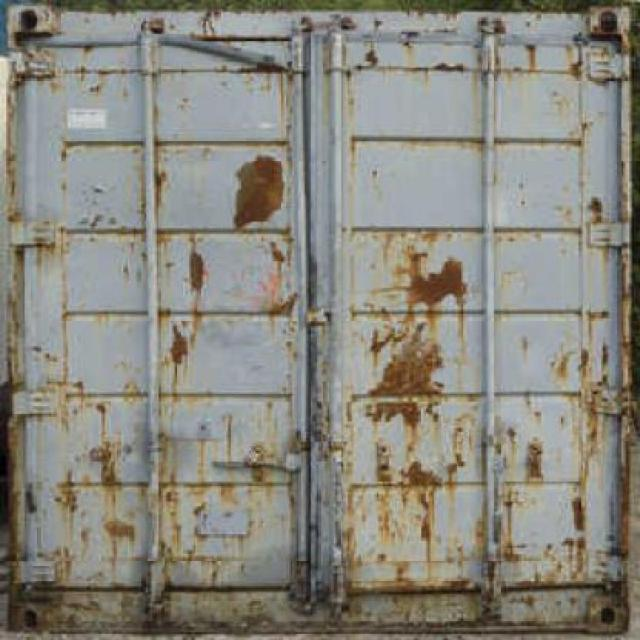rust: (364, 320, 446, 434), (403, 252, 469, 336), (233, 158, 284, 230), (396, 461, 444, 512), (172, 326, 189, 373), (189, 255, 206, 301), (572, 496, 586, 532), (564, 538, 586, 550)
